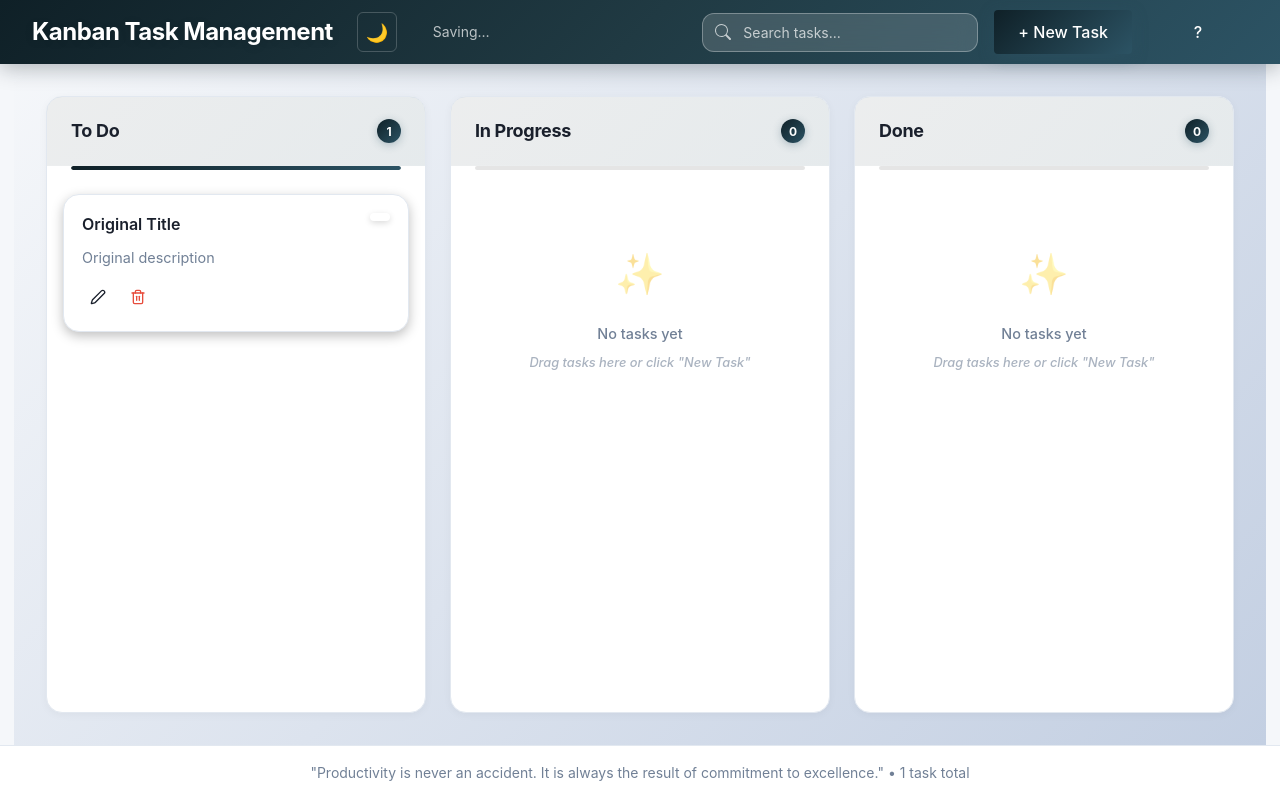
Test: App Integration Tests › Task Editing Flow › edits a task and updates it on the board
Expected: the heading "Original Title" is shown, [82, 214, 180, 234]
# Click edit button
Click the button named "Edit task: Original Title" at (98,297), box [82, 281, 114, 313]
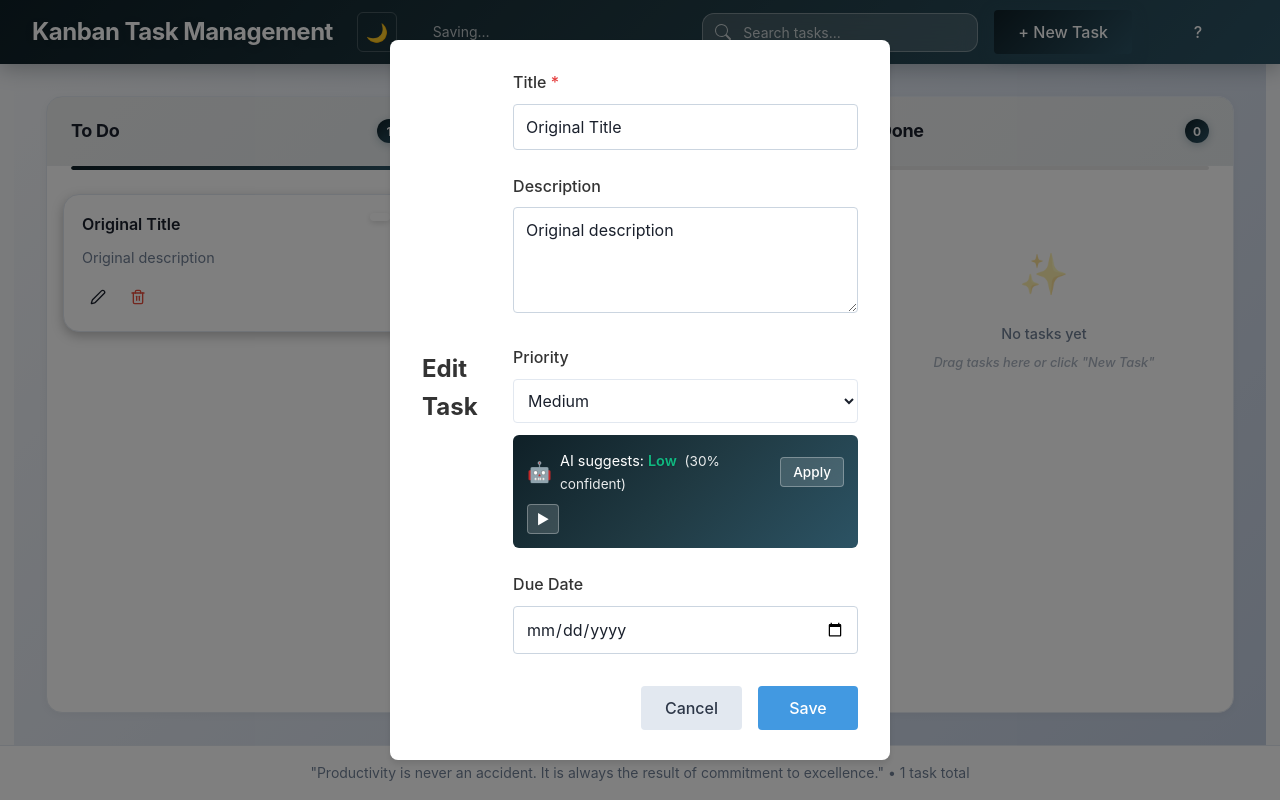
Replace the text in the field named "Task title" with "Updated Title" at (686,127), box [513, 104, 858, 150]
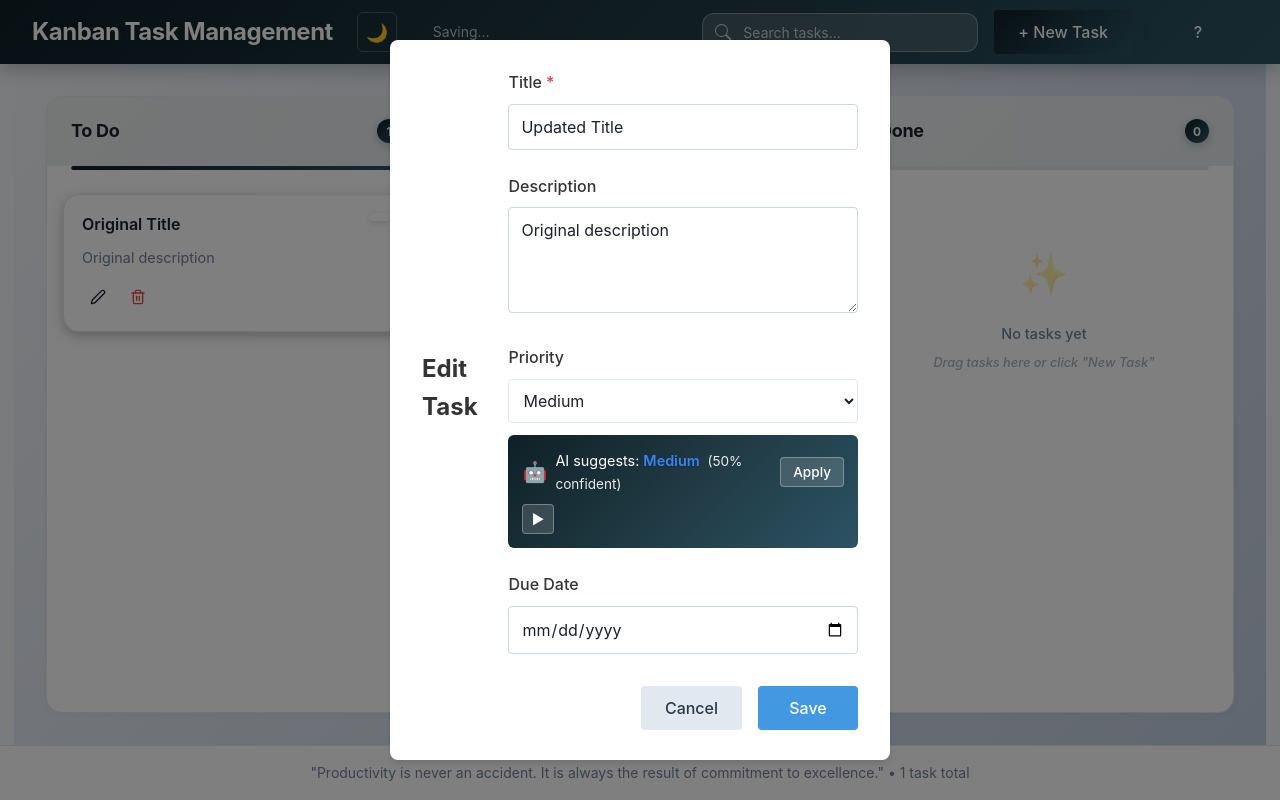
Replace the text in the text box named "Task description" with "Updated description" at (683,260), box [508, 208, 858, 314]
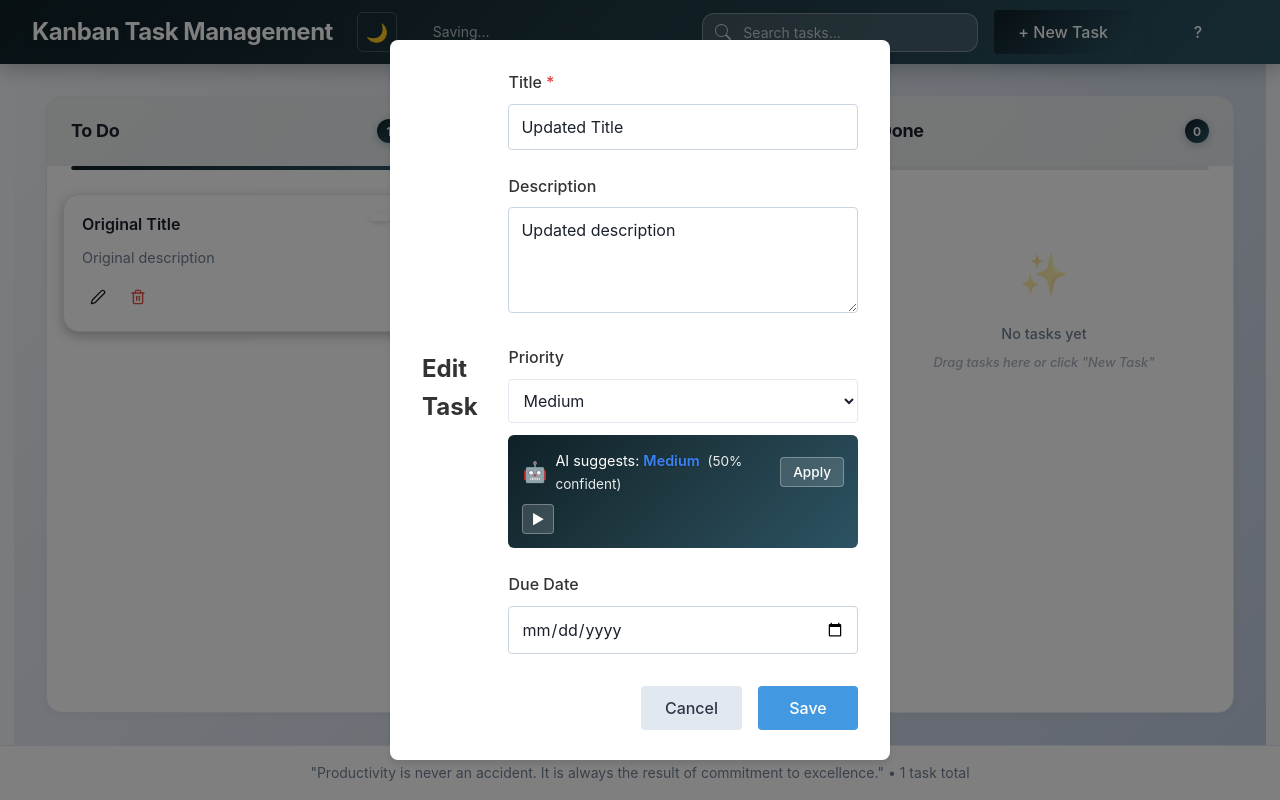
# Save changes
Click the button with aria-label "Save changes" at (808,708), box [758, 686, 858, 730]
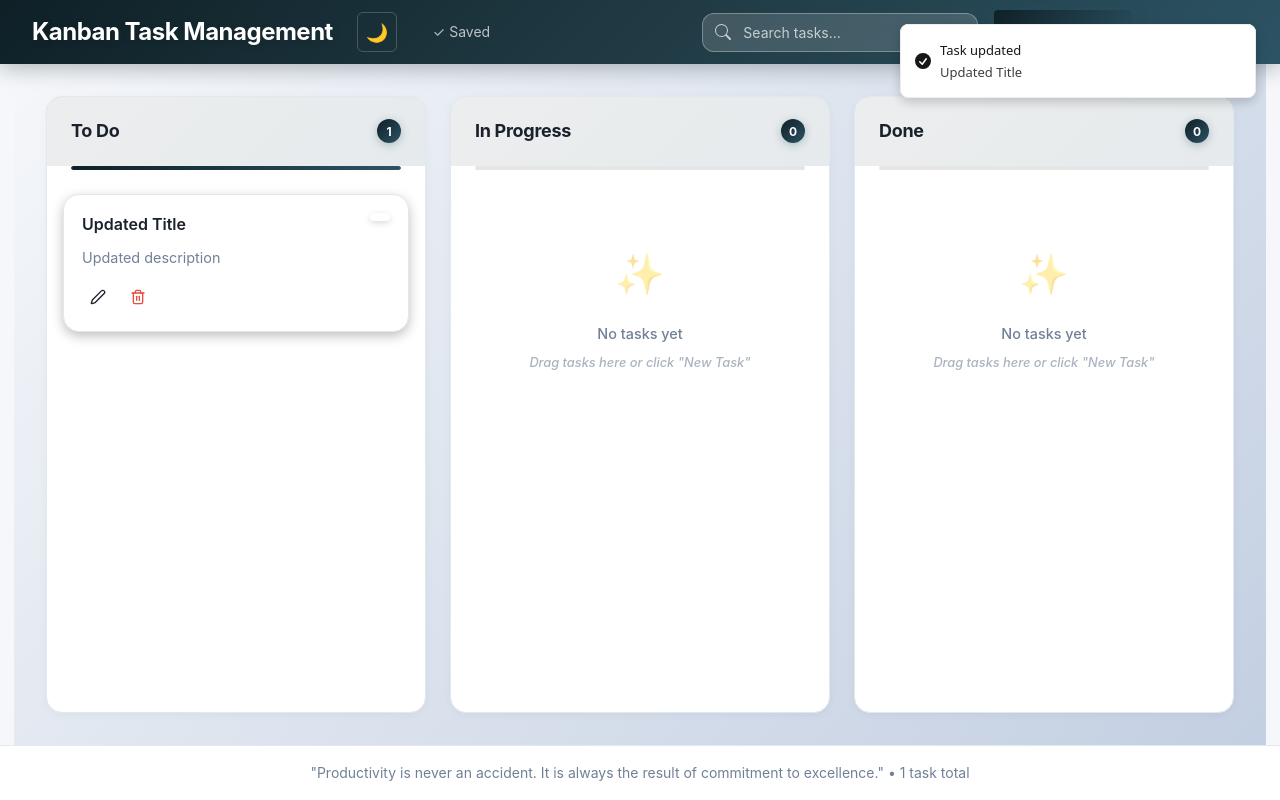
Now the heading "Updated Title" is shown, box [82, 214, 186, 234]
Now the text "Updated description" is shown, box [82, 249, 220, 266]
Now the button "Original Title" is gone
